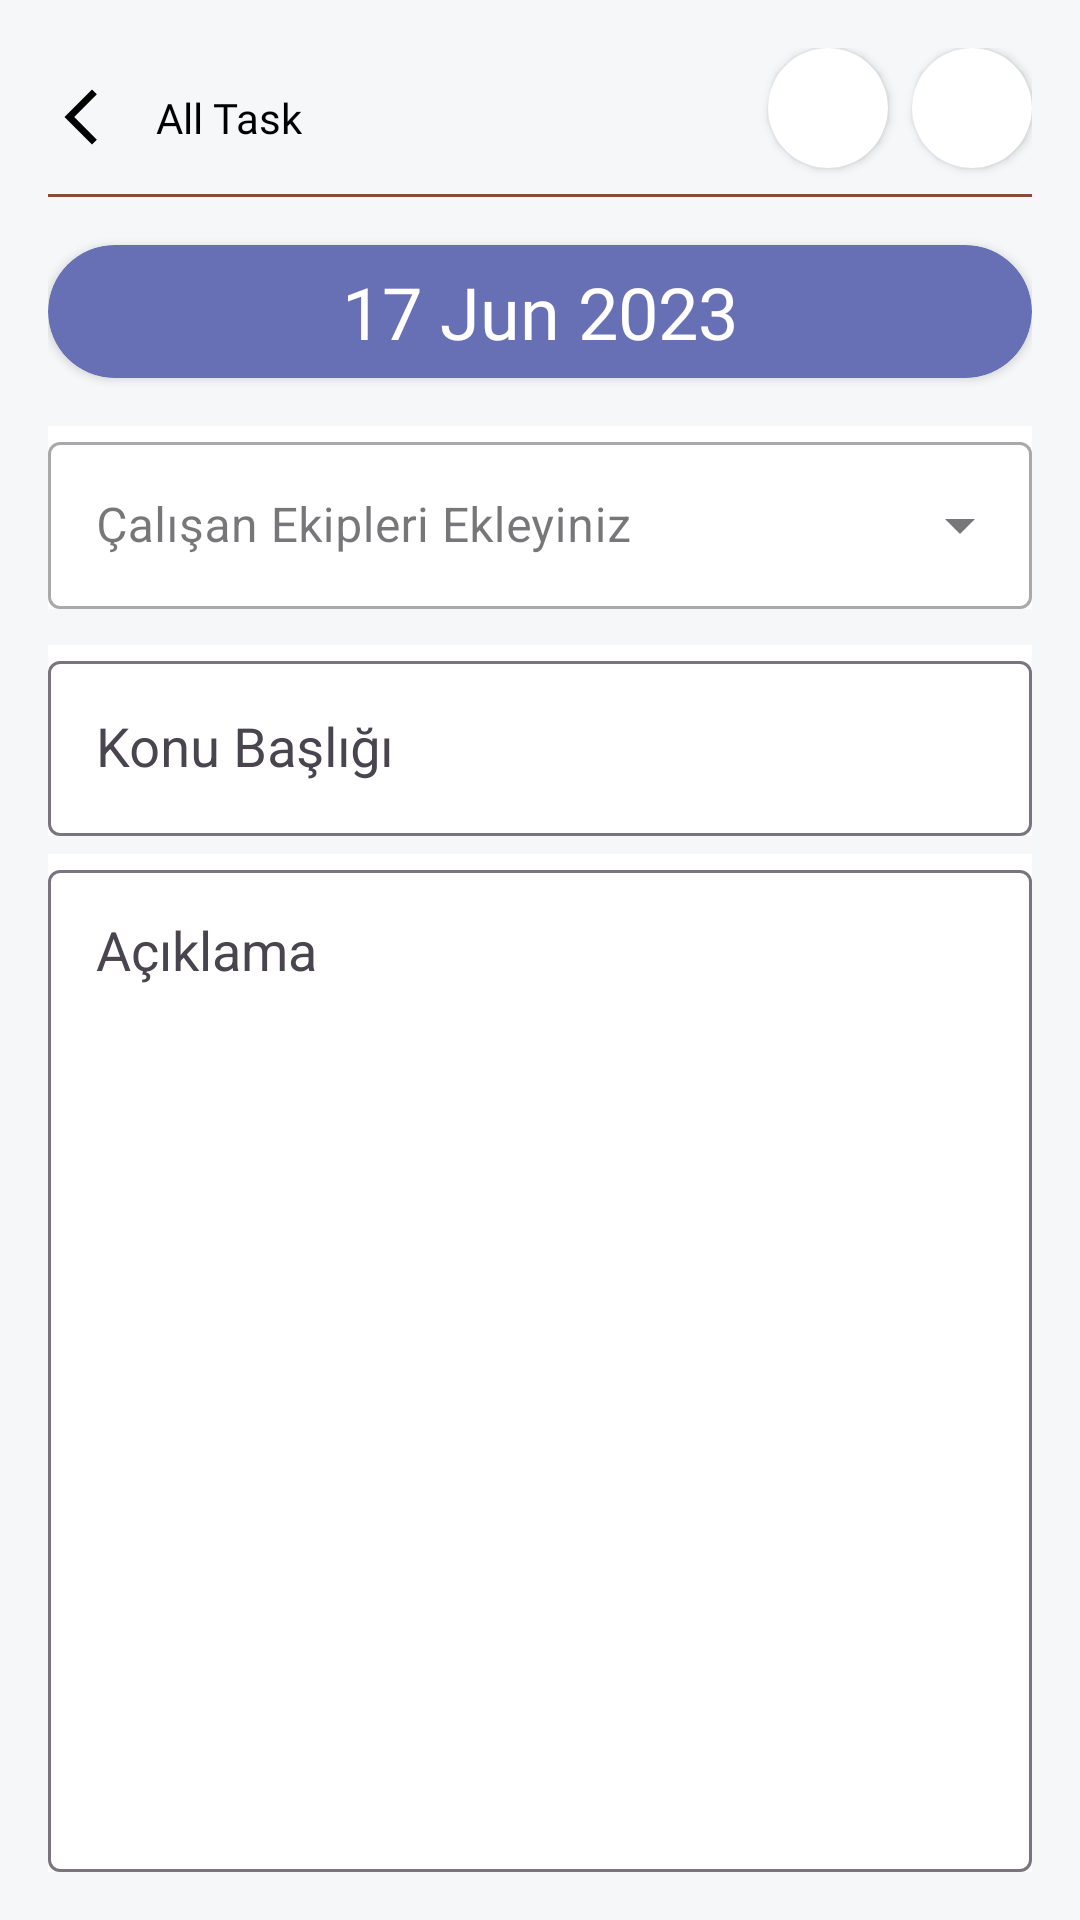

Named icons in this screenshot (1080 x 1920) and their centers, [x,y]:
back arrow: [80,117]
